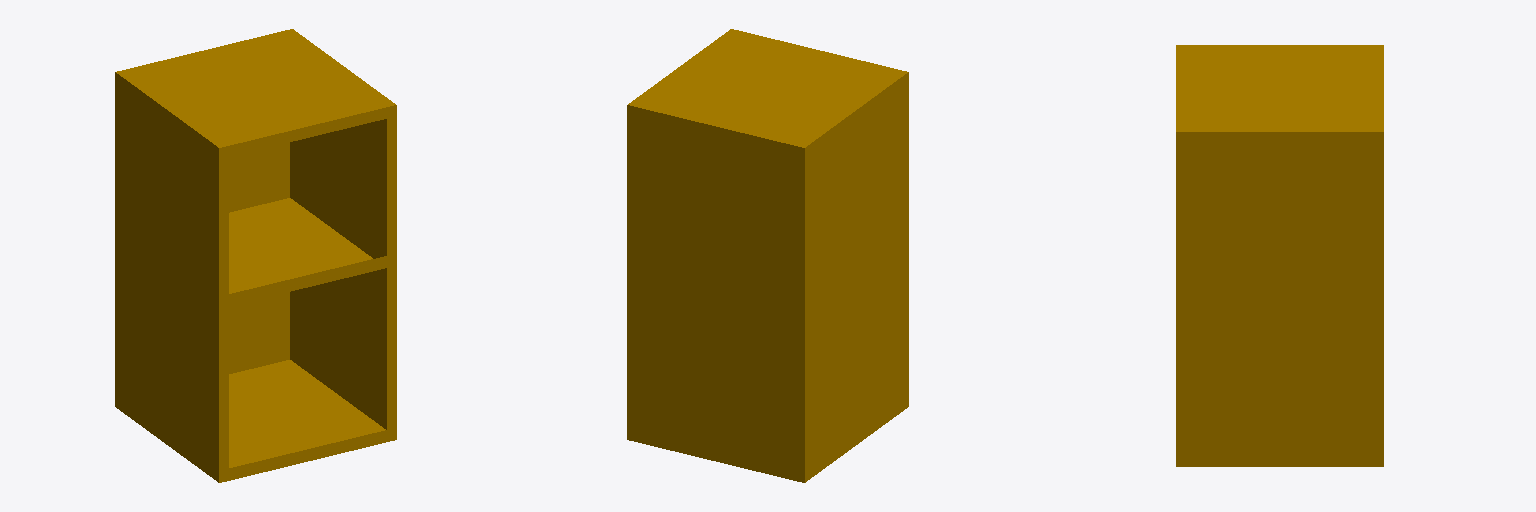
Rendered from policka.obj.
3 views of the same model, side by side, from view 1: azimuth 30°, elevation 25°; view 2: azimuth 150°, elevation 25°; view 3: azimuth 270°, elevation 25° (orthographic).
Parts seen in each view (by area): view 1: Mesh1 Model; view 2: Mesh1 Model; view 3: Mesh1 Model.
Boxes of the visible parts, x1,y1,x2,y2 form: Mesh1 Model: [115, 29, 396, 482]; Mesh1 Model: [627, 29, 908, 482]; Mesh1 Model: [1176, 45, 1383, 466].
Bounding box in the file's own units: 12952 × 23396 × 13166.